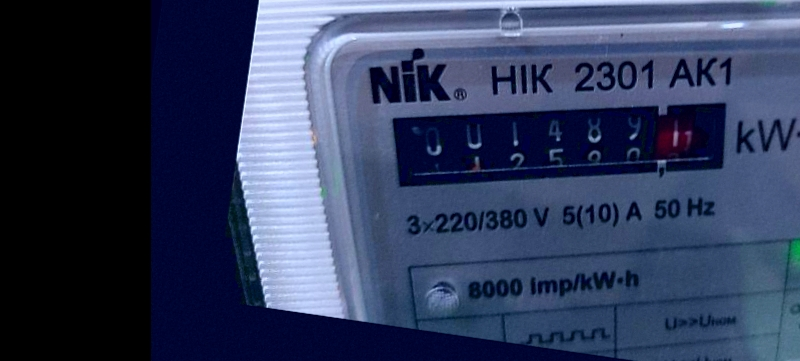0: (459, 113, 490, 152), (420, 121, 449, 160)
1: (664, 110, 689, 151), (504, 115, 528, 149)
4: (543, 111, 569, 145)
8: (583, 109, 609, 147)
9: (623, 108, 648, 143)
screen: (371, 44, 764, 247)
